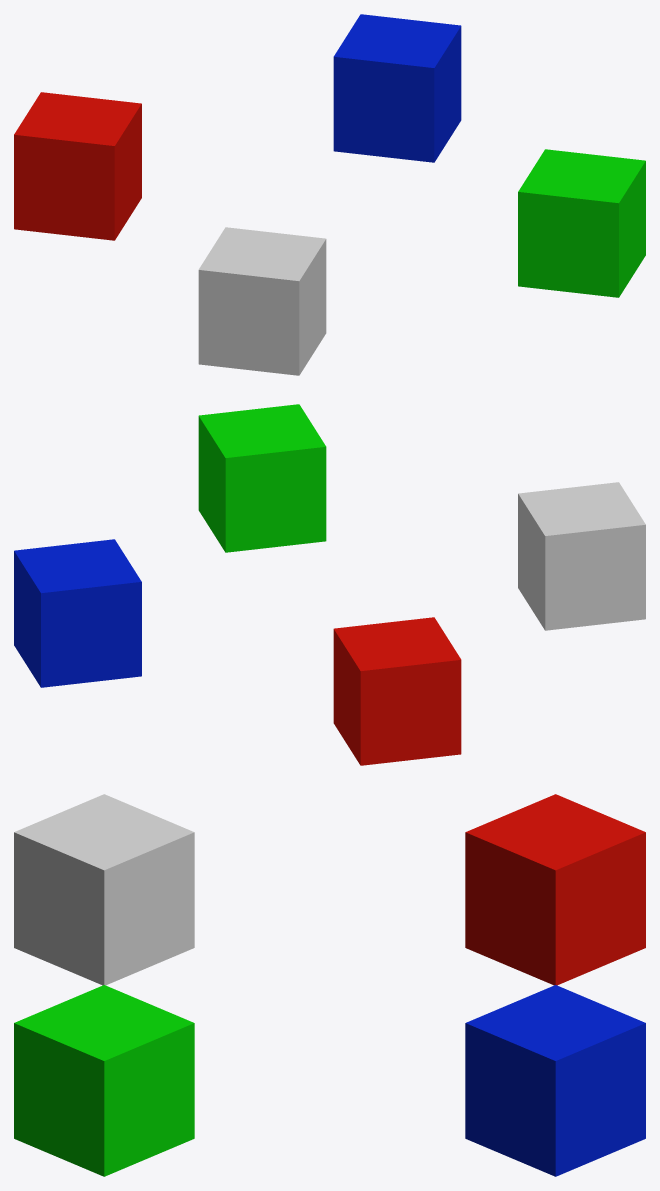
Rendered from worlds.gltf.
3 renders of one model, top to bottom at view 1: azimuth 30°, elevation 25°; view 2: azimuth 150°, elevation 25°; view 3: azimuth 270°, elevation 25°, orthographic. The views are drawn at different scales.
Visible parts, largest first — view 1: White, Blue, Red, Green; view 2: Red, Green, White, Blue; view 3: Blue, Green, White, Red.
Part boxes in pixels (x1,y1,x2,y2): White: [198, 227, 326, 375]; Blue: [333, 14, 461, 162]; Red: [14, 92, 141, 240]; Green: [518, 149, 645, 297]; Red: [333, 617, 461, 765]; Green: [198, 404, 326, 552]; White: [518, 482, 645, 630]; Blue: [14, 539, 141, 687]; Blue: [465, 985, 645, 1176]; Green: [14, 985, 194, 1176]; White: [14, 794, 194, 985]; Red: [465, 794, 645, 985].
Size of what is drawn, in the model's own units: 9.9 by 2 by 9.9.
